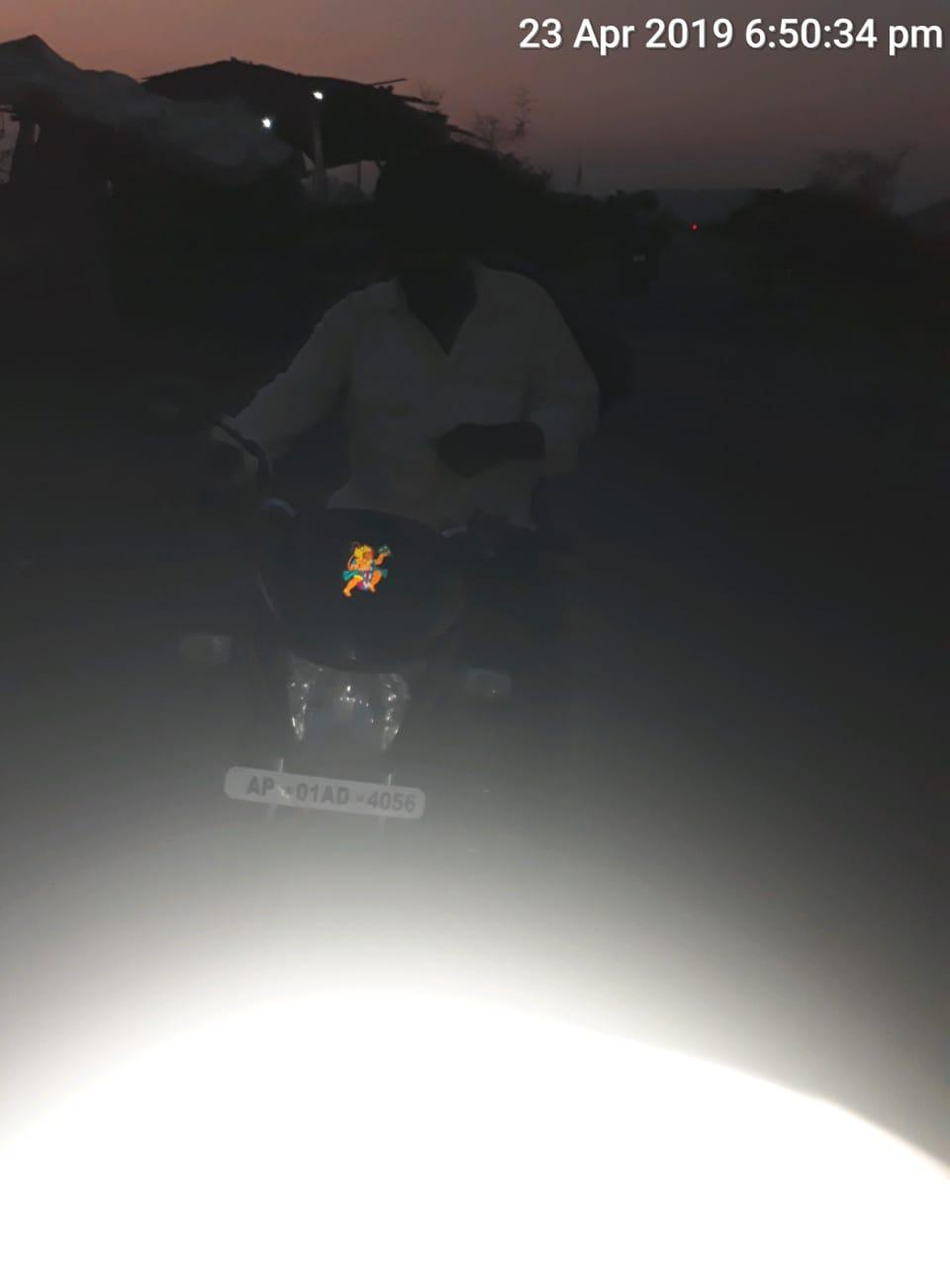plate: (176, 741, 451, 829)
